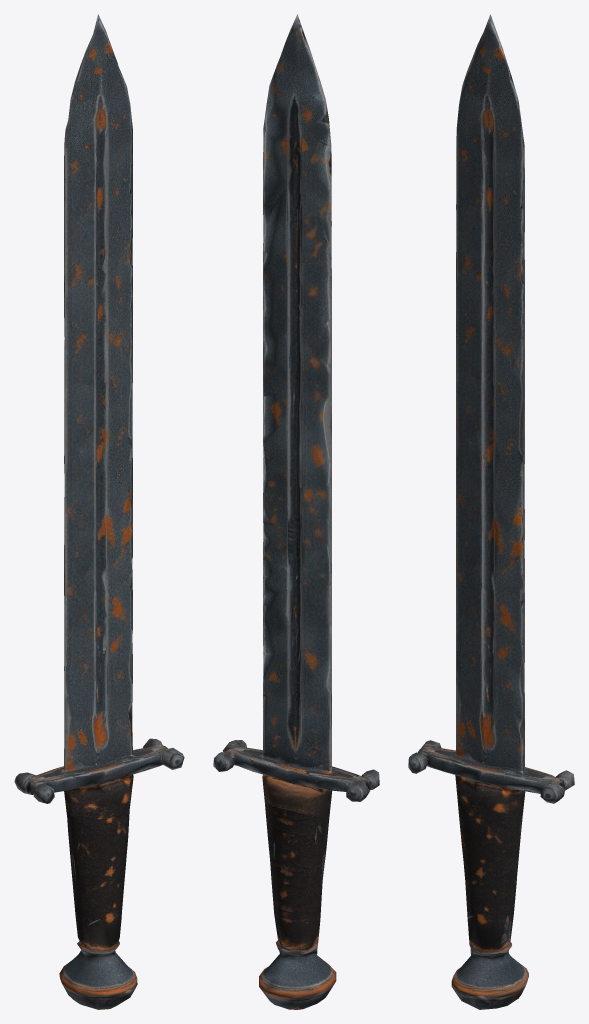
The model's file is sword_rusty.glb.
3 renders of one model, left to right at view 1: azimuth 30°, elevation 25°; view 2: azimuth 150°, elevation 25°; view 3: azimuth 330°, elevation 25°, orthographic.
Size of the model in its own units: 0.3055 by 1.9 by 0.1467.
1 material, 1 textured.
